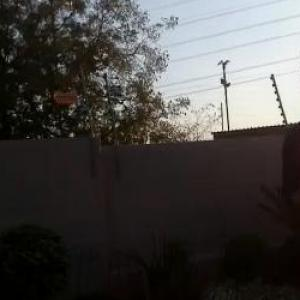follow: (270, 39, 299, 299)
